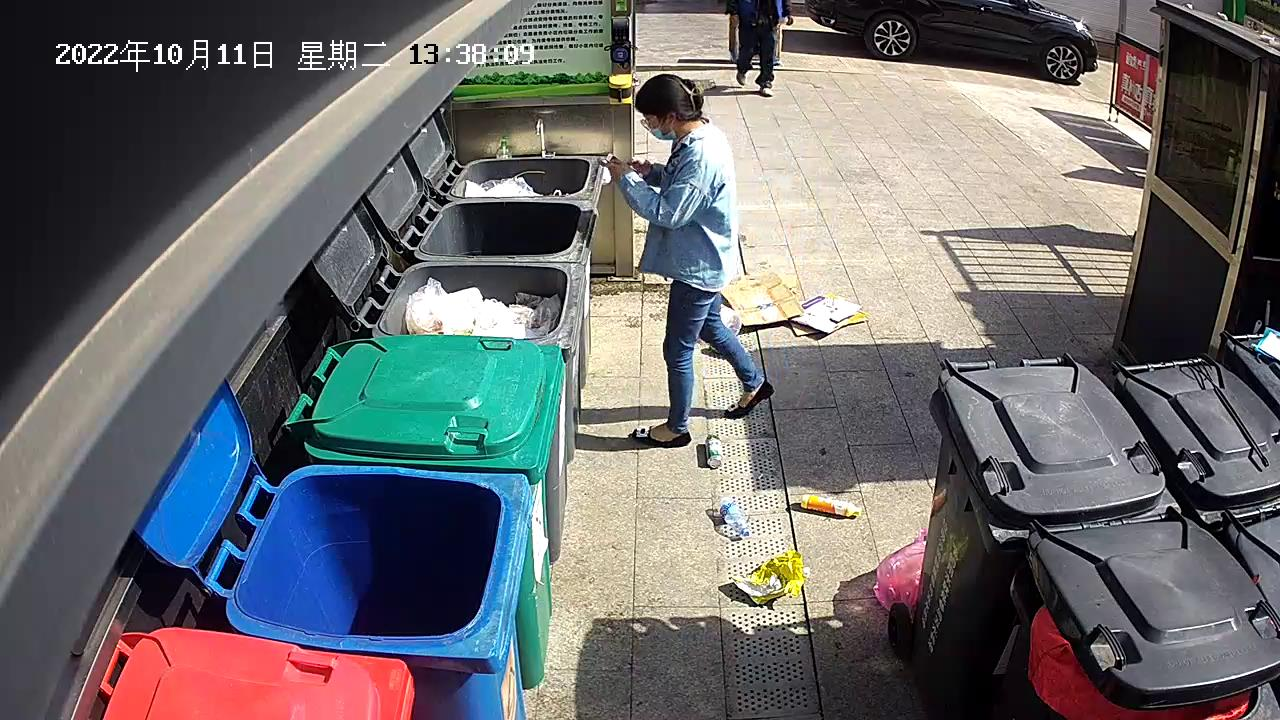garbage: (725, 546, 813, 607)
garbage-bag: (869, 523, 936, 622)
lvzhipin: (701, 429, 729, 471)
suliaozhipin: (712, 490, 757, 544), (796, 490, 869, 522)
worker: (591, 67, 781, 451)
zhizhipin: (719, 267, 808, 329), (784, 288, 876, 342)
